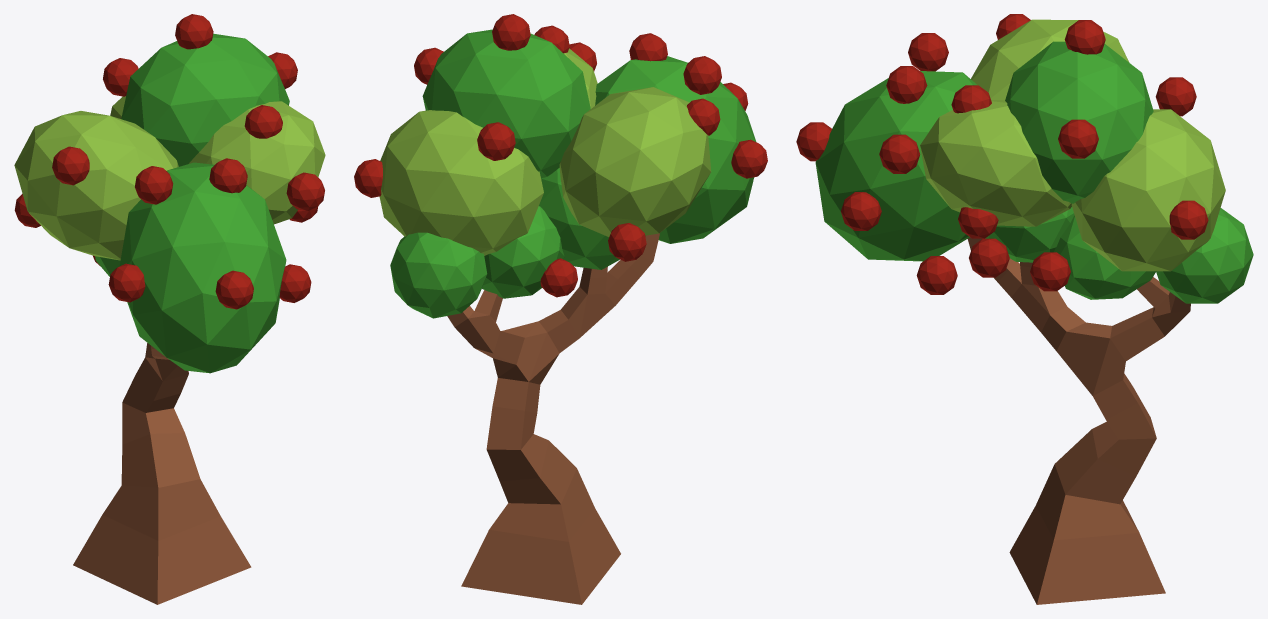
3 views of the same model, side by side, from view 1: azimuth 30°, elevation 25°; view 2: azimuth 150°, elevation 25°; view 3: azimuth 270°, elevation 25° (orthographic). The views are drawn at different scales.
Visible parts, largest first — view 1: Icosphere.003, Cube, Icosphere.005, Icosphere.007, Icosphere.002, Icosphere.017, Icosphere.014, Icosphere.012, Icosphere.009, Icosphere.013, Icosphere.011, Icosphere.026 (+4 smaller); view 2: Cube, Icosphere.005, Icosphere.001, Icosphere.007, Icosphere.003, Icosphere, Icosphere.004, Icosphere.006, Icosphere.010, Icosphere.014, Icosphere.008, Icosphere.011 (+7 smaller); view 3: Cube, Icosphere.003, Icosphere.001, Icosphere.007, Icosphere.002, Icosphere, Icosphere.005, Icosphere.004, Icosphere.006, Icosphere.019, Icosphere.020, Icosphere.017 (+11 smaller).
Boxes of the visible parts, left/top/right/bottom form: Icosphere.003: left=119, top=162, right=286, bottom=373; Cube: left=73, top=343, right=251, bottom=604; Icosphere.005: left=14, top=111, right=178, bottom=260; Icosphere.007: left=121, top=33, right=289, bottom=166; Icosphere.002: left=189, top=101, right=325, bottom=224; Icosphere.017: left=286, top=172, right=324, bottom=211; Icosphere.014: left=135, top=166, right=173, bottom=204; Icosphere.012: left=215, top=270, right=253, bottom=309; Icosphere.009: left=52, top=146, right=89, bottom=185; Icosphere.013: left=108, top=263, right=145, bottom=302; Icosphere.011: left=175, top=14, right=213, bottom=49; Icosphere.026: left=209, top=158, right=247, bottom=193; Cube: left=447, top=233, right=659, bottom=604; Icosphere.005: left=559, top=87, right=711, bottom=236; Icosphere.001: left=379, top=110, right=543, bottom=255; Icosphere.007: left=422, top=29, right=590, bottom=177; Icosphere.003: left=595, top=56, right=756, bottom=243; Icosphere: left=390, top=232, right=487, bottom=318; Icosphere.004: left=482, top=206, right=564, bottom=298; Icosphere.006: left=539, top=168, right=619, bottom=269; Icosphere.010: left=477, top=122, right=515, bottom=160; Icosphere.014: left=683, top=56, right=721, bottom=94; Icosphere.008: left=608, top=223, right=646, bottom=261; Icosphere.011: left=492, top=14, right=530, bottom=50; Cube: left=967, top=237, right=1190, bottom=604; Icosphere.003: left=815, top=71, right=977, bottom=261; Icosphere.001: left=1071, top=109, right=1225, bottom=271; Icosphere.007: left=1005, top=41, right=1153, bottom=203; Icosphere.002: left=920, top=99, right=1071, bottom=226; Icosphere: left=1156, top=208, right=1253, bottom=303; Icosphere.005: left=971, top=19, right=1129, bottom=100; Icosphere.004: left=1054, top=215, right=1155, bottom=299; Icosphere.006: left=985, top=207, right=1074, bottom=262; Icosphere.019: left=1058, top=119, right=1098, bottom=158; Icosphere.020: left=1030, top=252, right=1070, bottom=291; Icosphere.017: left=879, top=134, right=920, bottom=173.
Size of the model in its own units: 1.79 by 3.29 by 2.4.
